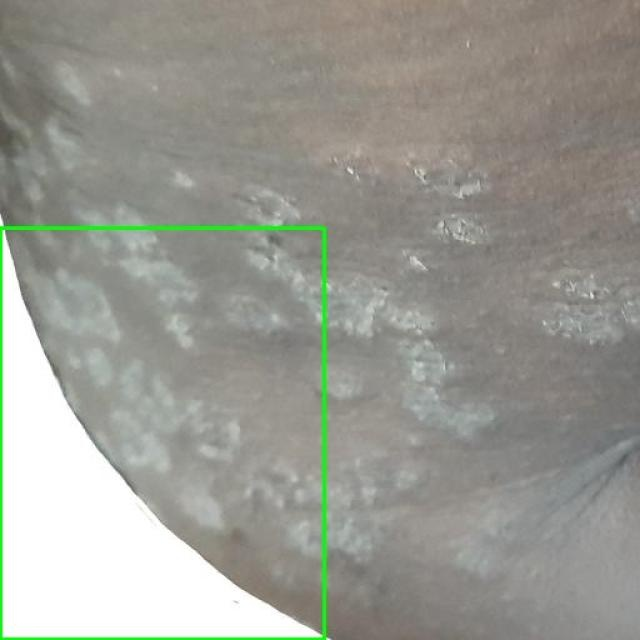Tinea Corporis: (0, 228, 324, 639)
